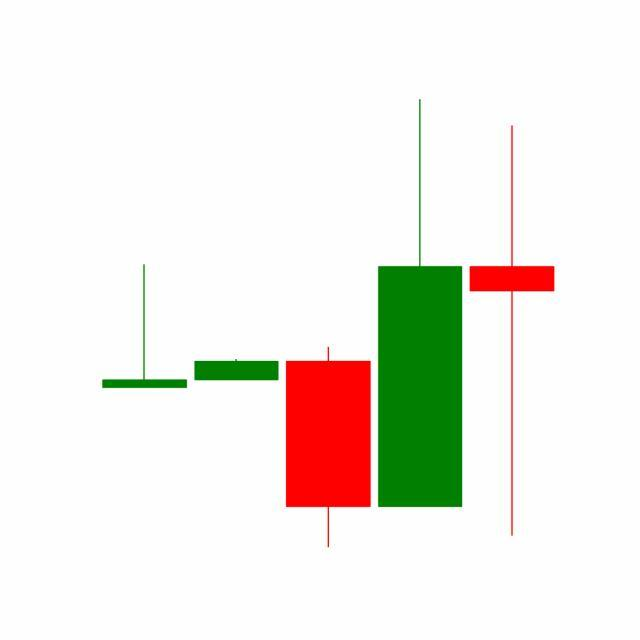Spinning Top: (466, 121, 559, 541)
